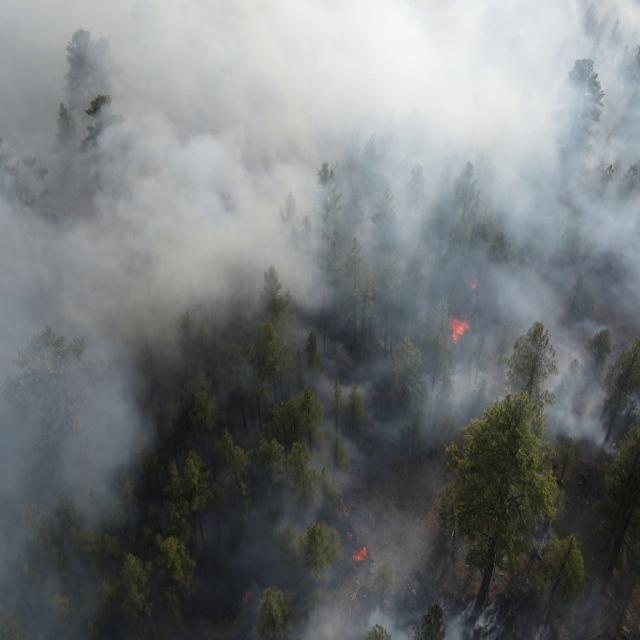fire: (332, 484, 354, 538), (449, 316, 471, 344), (352, 546, 370, 566), (470, 276, 480, 292), (240, 590, 250, 604)
smoke: (0, 0, 441, 640), (546, 0, 636, 435), (482, 0, 546, 328), (441, 0, 482, 418), (443, 564, 603, 640), (483, 328, 514, 400)
